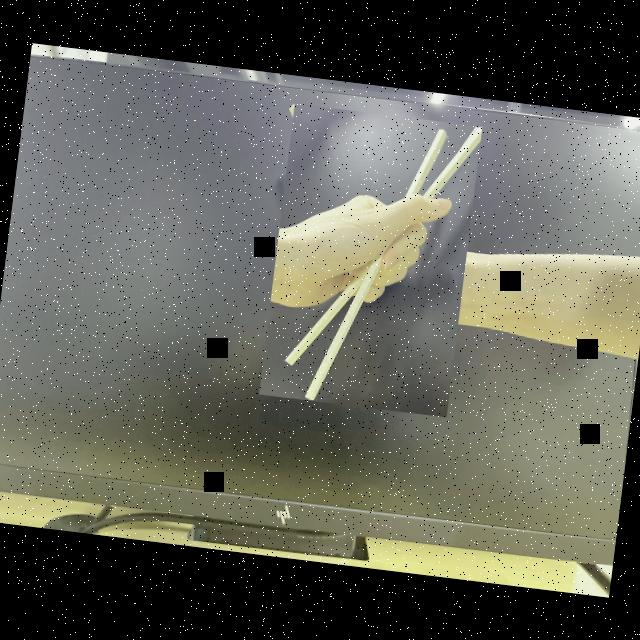stick: (259, 103, 482, 416)
